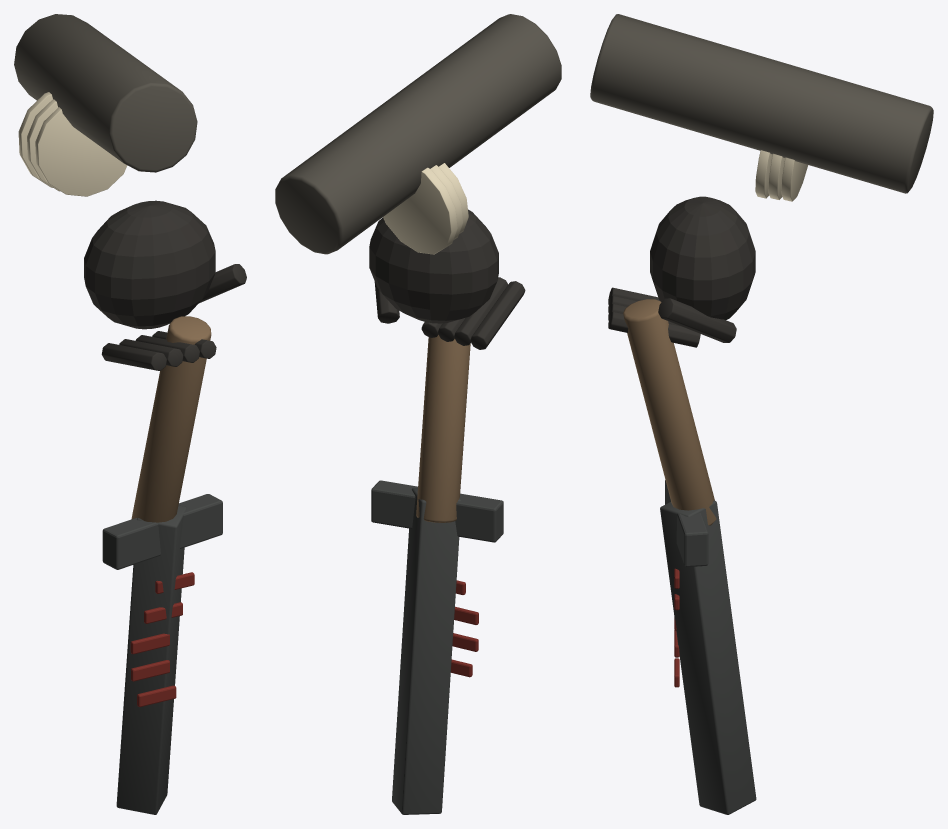
The model's file is dz_fps_knife_gloved_premium.glb.
3 views of the same model, side by side, from view 1: azimuth 30°, elevation 25°; view 2: azimuth 150°, elevation 25°; view 3: azimuth 270°, elevation 25° (orthographic).
Parts seen in each view (by area): view 1: right_forearm_wrapped, right_gloved_palm, knife_blade_spine, wrapped_knife_handle, wrist_tape_1_0, knife_crossguard_scratched, finger_1_0, thumb_1, wrist_tape_1_2, wrist_tape_1_1, finger_1_1, finger_1_2 (+4 smaller); view 2: right_forearm_wrapped, knife_blade_spine, right_gloved_palm, wrapped_knife_handle, wrist_tape_1_2, knife_crossguard_scratched, finger_1_0, finger_1_1, wrist_tape_1_1, thumb_1; view 3: right_forearm_wrapped, knife_blade_spine, right_gloved_palm, wrapped_knife_handle, thumb_1, knife_crossguard_scratched, finger_1_3, wrist_tape_1_2, wrist_tape_1_0.
Part boxes in pixels (<box>): right_forearm_wrapped: <box>14,14,197,172</box>; right_gloved_palm: <box>84,200,215,329</box>; knife_blade_spine: <box>116,505,186,814</box>; wrapped_knife_handle: <box>131,316,211,522</box>; wrist_tape_1_0: <box>35,107,127,196</box>; knife_crossguard_scratched: <box>102,494,222,569</box>; finger_1_0: <box>101,343,166,370</box>; thumb_1: <box>199,264,246,303</box>; wrist_tape_1_2: <box>18,92,52,187</box>; wrist_tape_1_1: <box>27,99,60,191</box>; finger_1_1: <box>119,339,183,366</box>; finger_1_2: <box>135,335,199,362</box>; right_forearm_wrapped: <box>275,14,561,254</box>; knife_blade_spine: <box>392,488,461,814</box>; right_gloved_palm: <box>369,209,498,323</box>; wrapped_knife_handle: <box>416,335,470,522</box>; wrist_tape_1_2: <box>383,167,457,254</box>; knife_crossguard_scratched: <box>371,480,503,542</box>; finger_1_0: <box>470,281,525,349</box>; finger_1_1: <box>454,277,508,345</box>; wrist_tape_1_1: <box>430,165,463,239</box>; thumb_1: <box>374,281,399,323</box>; right_forearm_wrapped: <box>590,14,933,193</box>; knife_blade_spine: <box>660,500,756,814</box>; right_gloved_palm: <box>650,196,755,319</box>; wrapped_knife_handle: <box>623,299,716,525</box>; thumb_1: <box>658,298,736,342</box>; knife_crossguard_scratched: <box>665,480,708,566</box>; finger_1_3: <box>608,311,700,347</box>; wrist_tape_1_2: <box>781,157,808,201</box>; wrist_tape_1_0: <box>755,150,772,198</box>.
Size of the model in its own units: 0.3474 by 1.57 by 0.6386.
